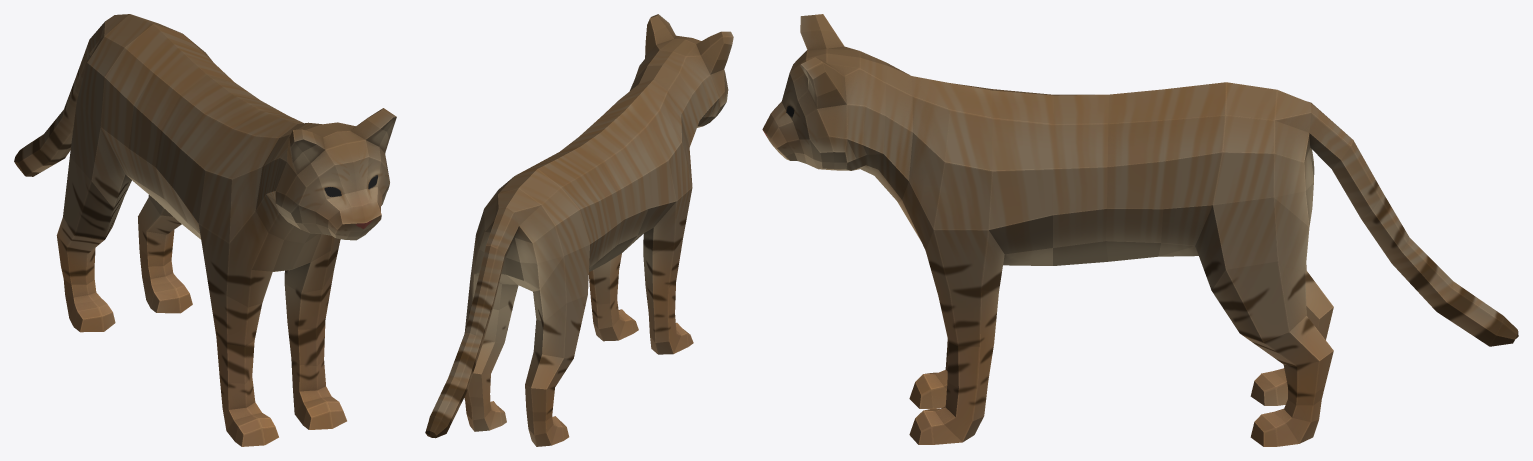
Rendered from Wild cat.glb.
3 views of the same model, side by side, from view 1: azimuth 30°, elevation 25°; view 2: azimuth 150°, elevation 25°; view 3: azimuth 270°, elevation 25° (orthographic). The views are drawn at different scales.
Visible parts, largest first — view 1: ArabianWildcat_mesh; view 2: ArabianWildcat_mesh; view 3: ArabianWildcat_mesh.
Part boxes in pixels (x1=…): ArabianWildcat_mesh: x1=14, y1=14, x2=396, y2=446; ArabianWildcat_mesh: x1=425, y1=14, x2=733, y2=446; ArabianWildcat_mesh: x1=762, y1=14, x2=1518, y2=446.
Bounding box in the file's own units: 0.8993 × 2.36 × 4.24.
1 material, 1 textured.
